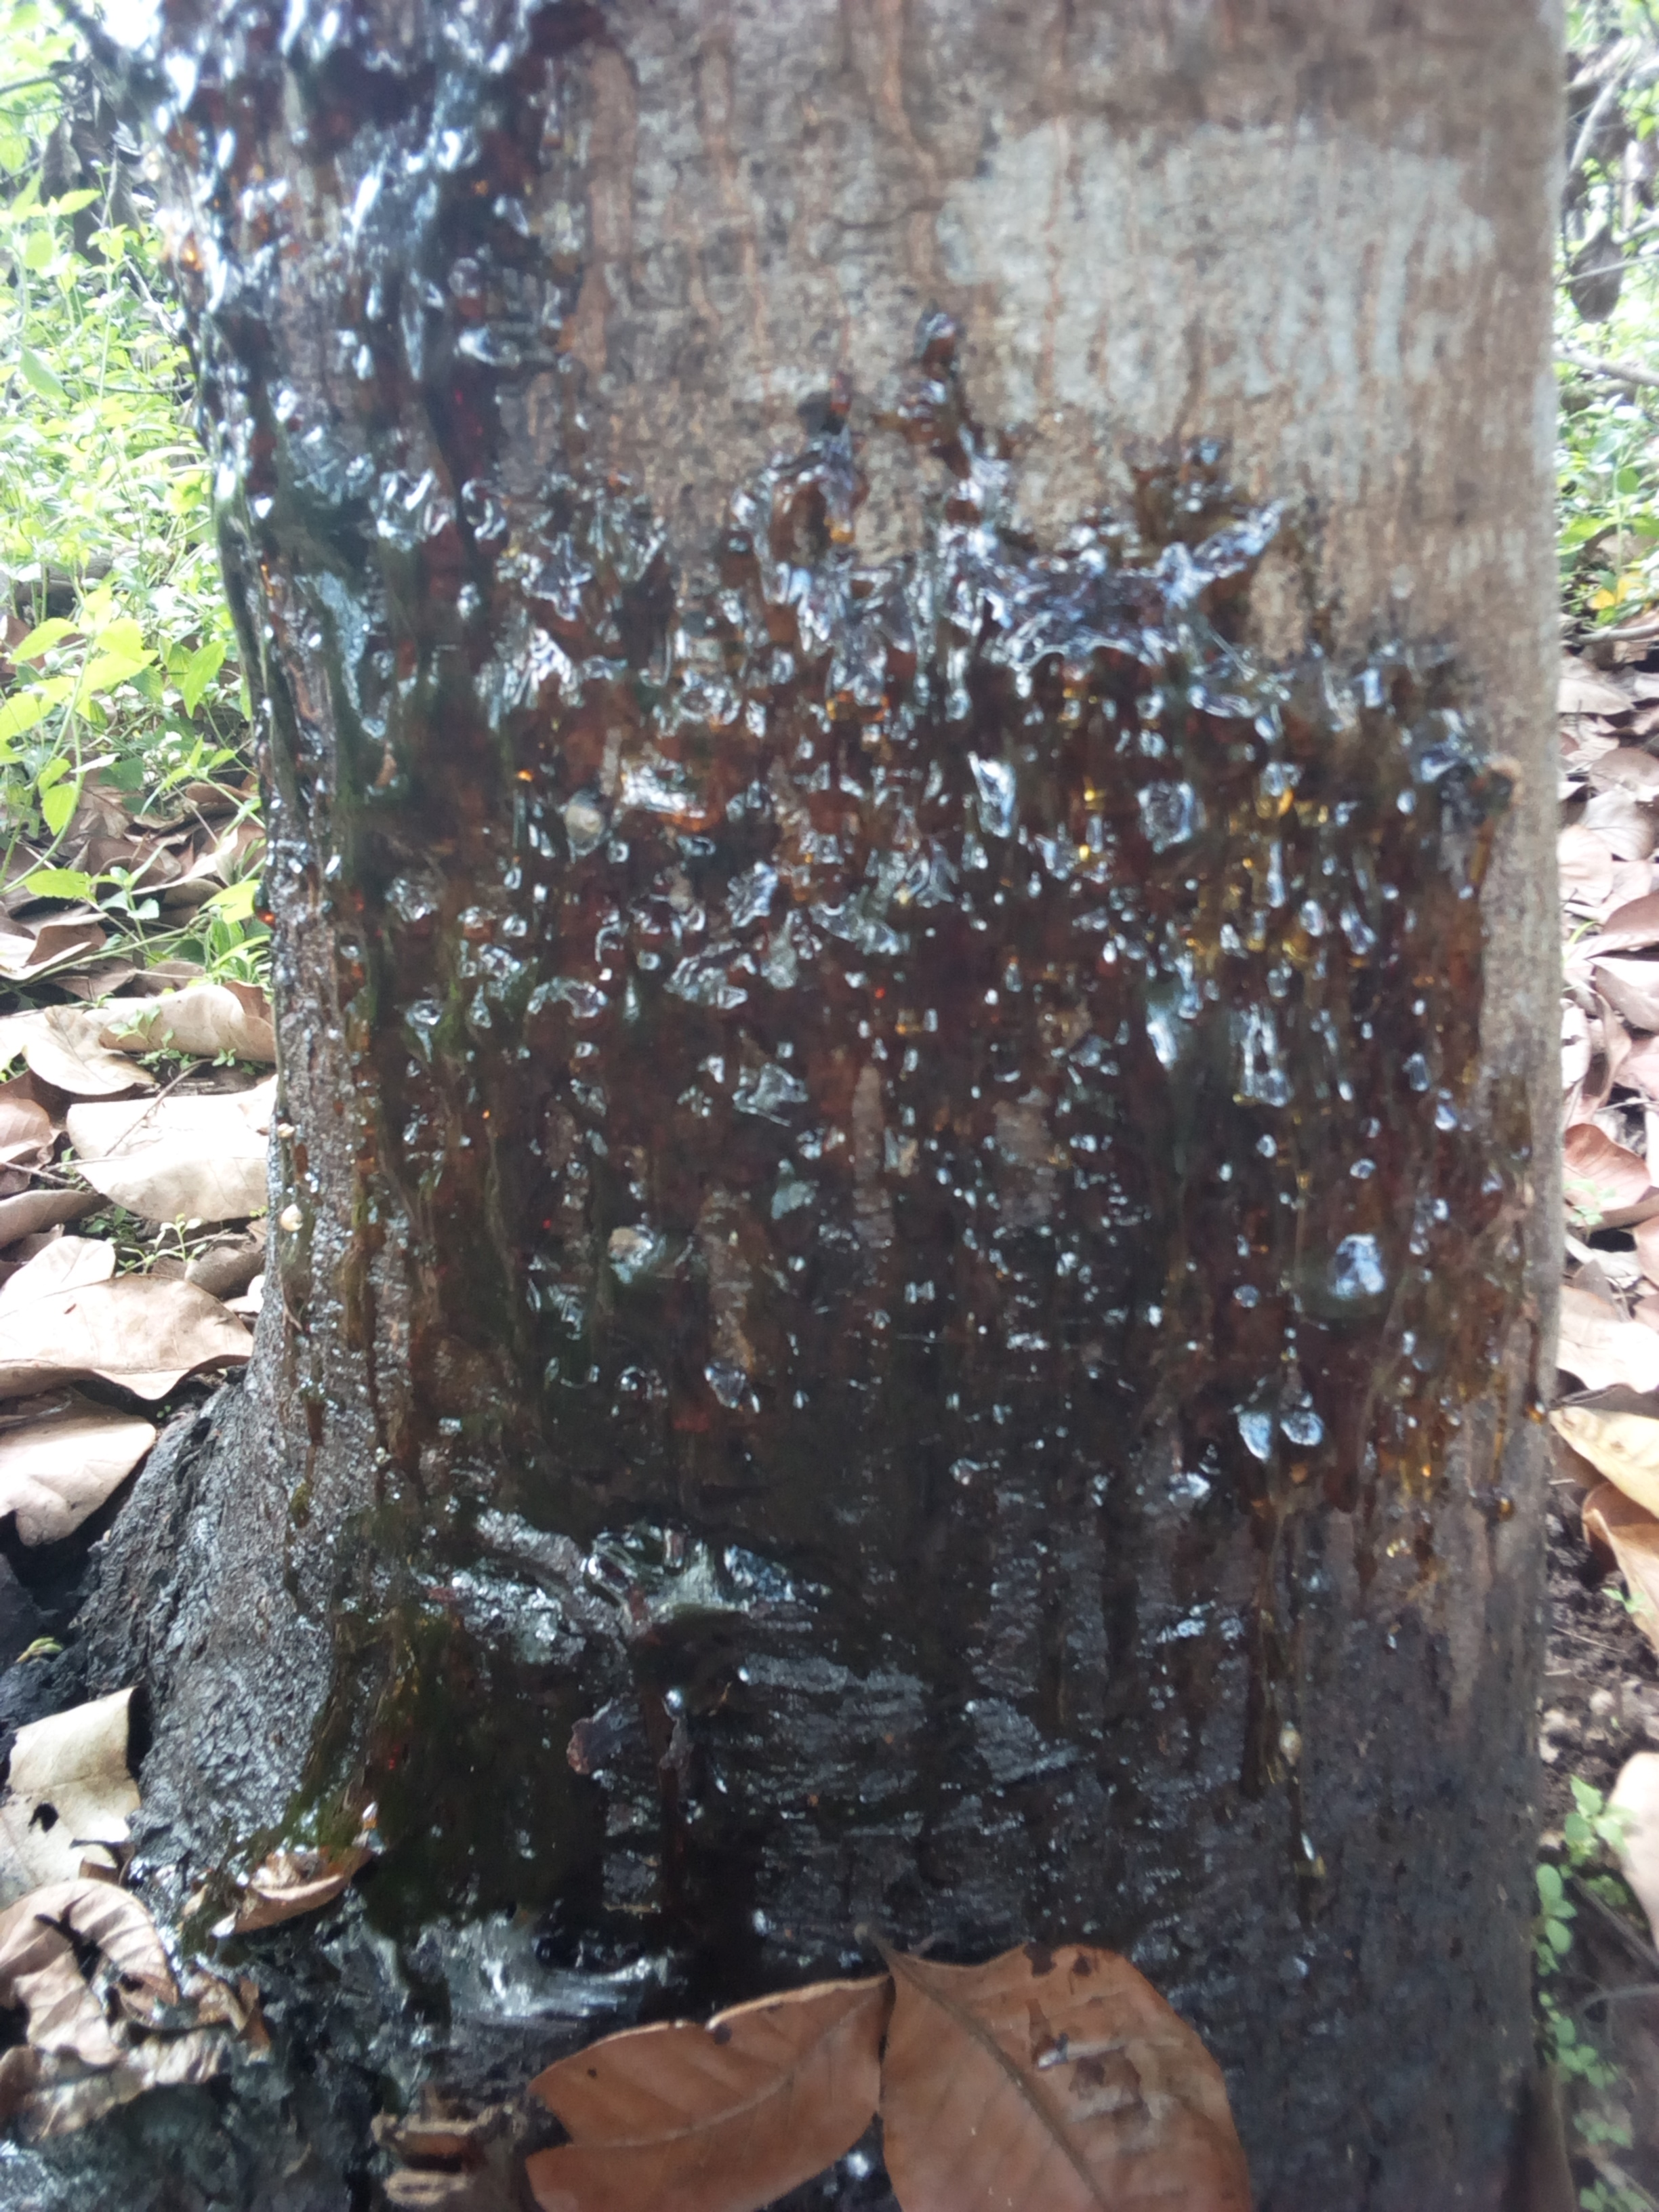Gommose: (220, 371, 1530, 2081), (173, 0, 535, 350)
